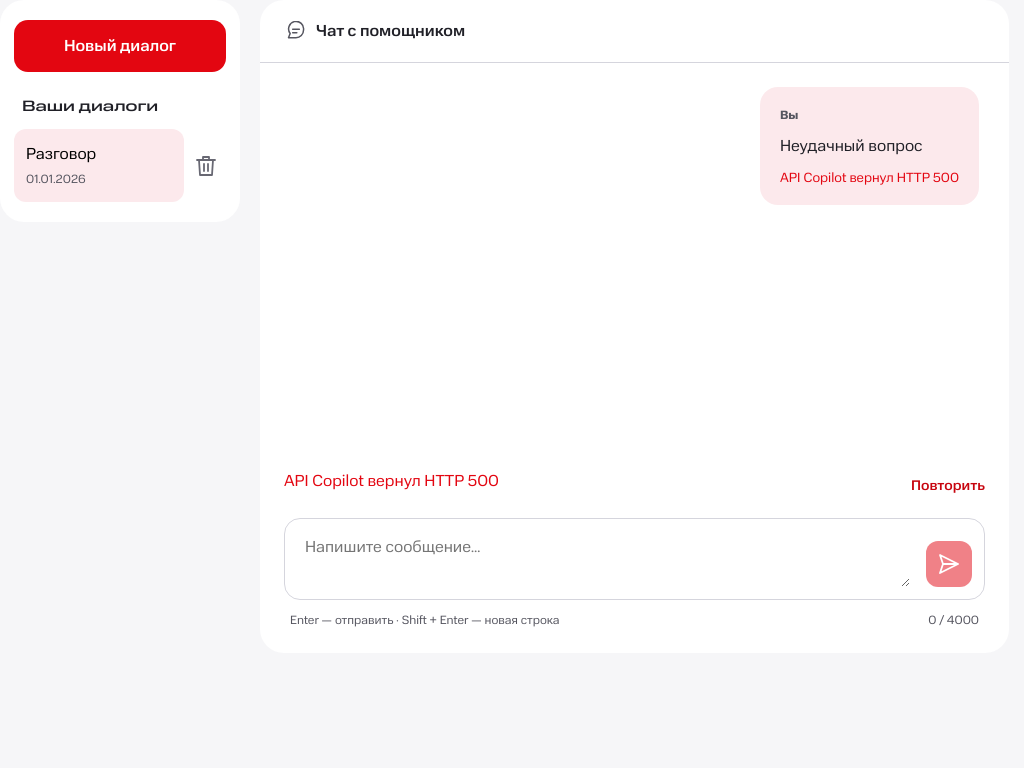
Scenario: Чат › позволяет продолжить восстановленный диалог после ошибки копилота
Type "Новый вопрос" into the text box with placeholder "Напишите сообщение…" at (604, 559), box [297,531,910,587]
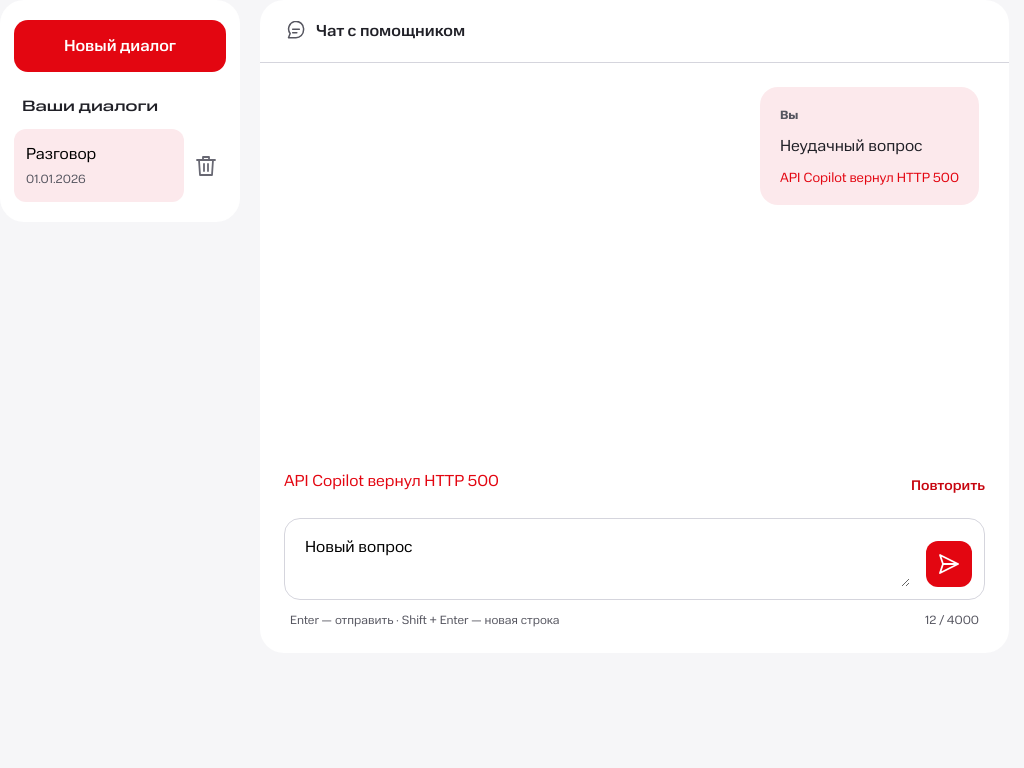
Submit the form, box [284,518,985,600]
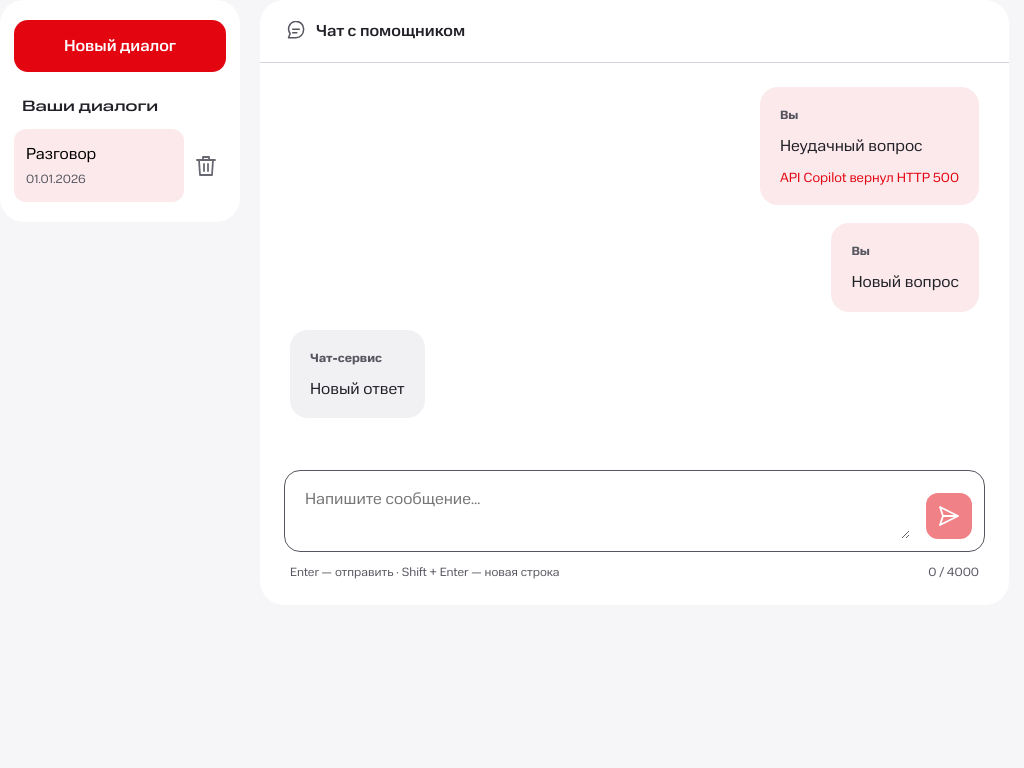
Expected: the text with class "message-failed" shows "HTTP 500", [780,169,959,187]
Result: the number of elements with class "message-user" is 2 at [760,87,979,205]; [831,223,979,312]
Result: the text "Новый ответ" is shown at [310,376,405,402]
